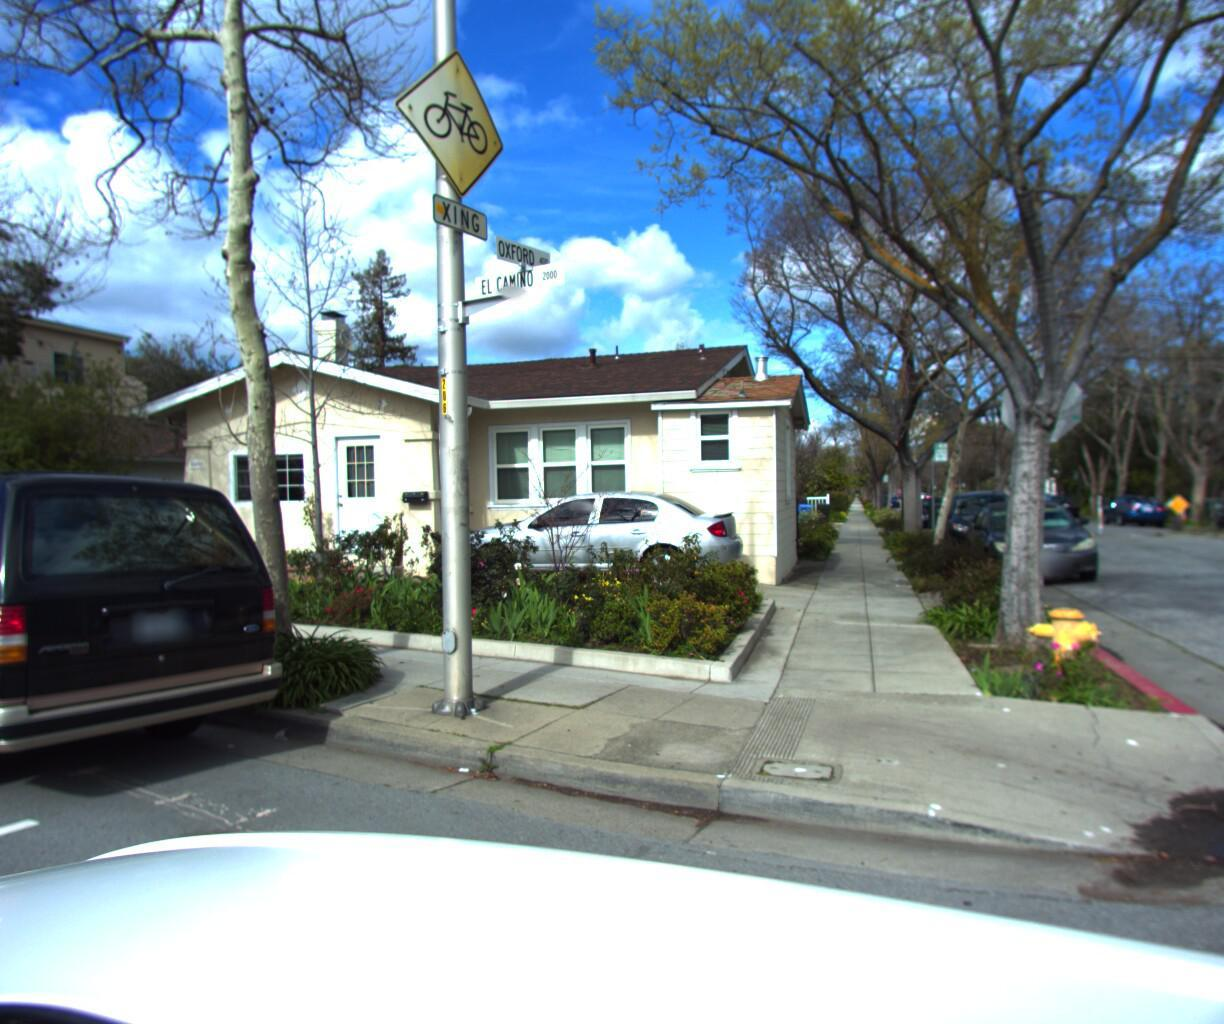car: (430, 485, 755, 595), (959, 499, 1112, 593), (937, 492, 1038, 563), (1092, 498, 1172, 535), (909, 500, 954, 532), (1034, 496, 1083, 522)
